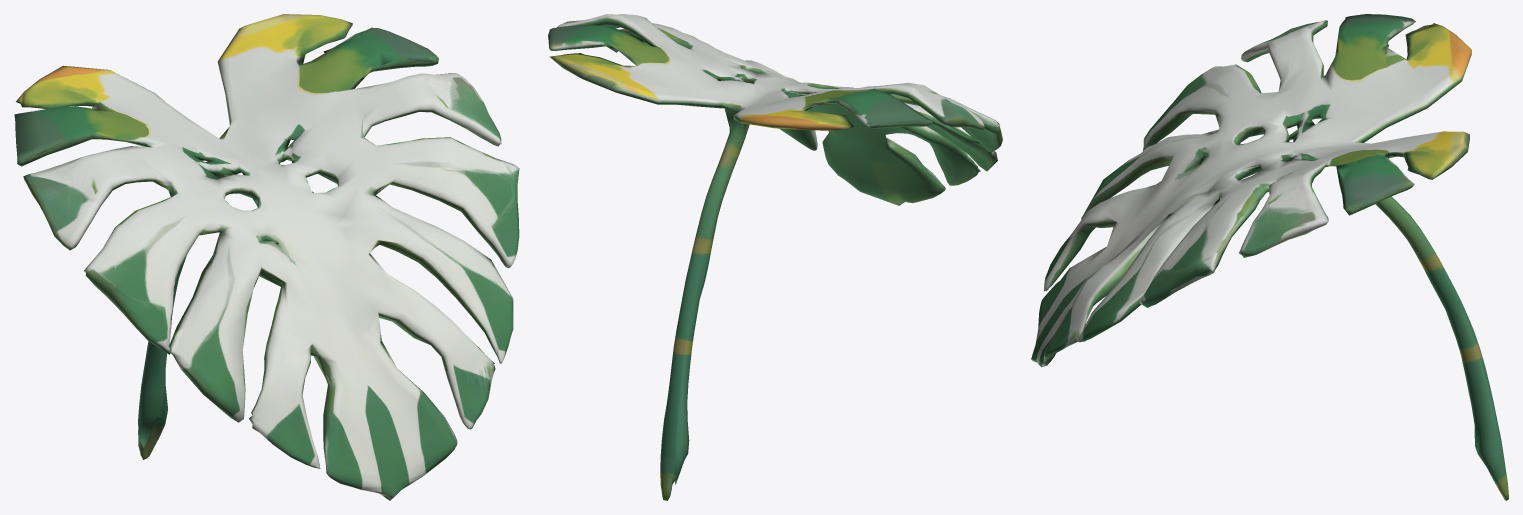
The model's file is mon_star_greenwhite.glb.
The picture shows the model from 3 angles, left to right: view 1: azimuth 30°, elevation 25°; view 2: azimuth 150°, elevation 25°; view 3: azimuth 270°, elevation 25°; orthographic projection. The views are drawn at different scales.
Bounding box in the file's own units: 2 × 1.88 × 2.
1 material, 1 textured.
